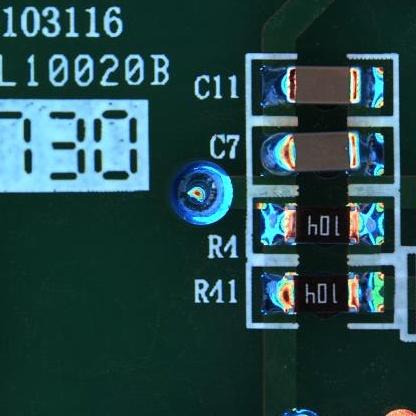spot: (167, 159, 232, 227)
